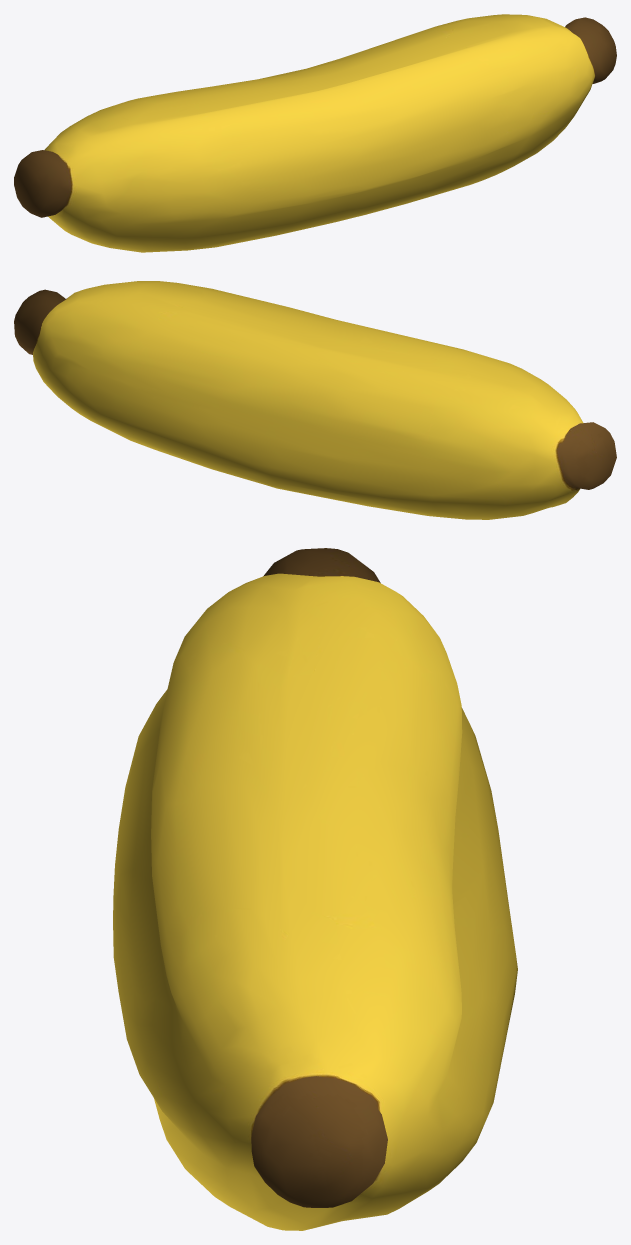
The model's file is banana.glb.
3 views of the same model, one above another, from view 1: azimuth 30°, elevation 25°; view 2: azimuth 150°, elevation 25°; view 3: azimuth 270°, elevation 25° (orthographic). The views are drawn at different scales.
Parts seen in each view (by area): view 1: tripo_node_7a57666f-5a66-4cfe-96dc-02a92176f5c3; view 2: tripo_node_7a57666f-5a66-4cfe-96dc-02a92176f5c3; view 3: tripo_node_7a57666f-5a66-4cfe-96dc-02a92176f5c3.
Part boxes in pixels (x1,y1,x2,y2): tripo_node_7a57666f-5a66-4cfe-96dc-02a92176f5c3: [14, 14, 616, 252]; tripo_node_7a57666f-5a66-4cfe-96dc-02a92176f5c3: [14, 281, 616, 519]; tripo_node_7a57666f-5a66-4cfe-96dc-02a92176f5c3: [113, 548, 517, 1230].
Size of the model in its own units: 0.9812 by 0.2132 by 0.2911.
Materials: 1 (1 with a texture image).
